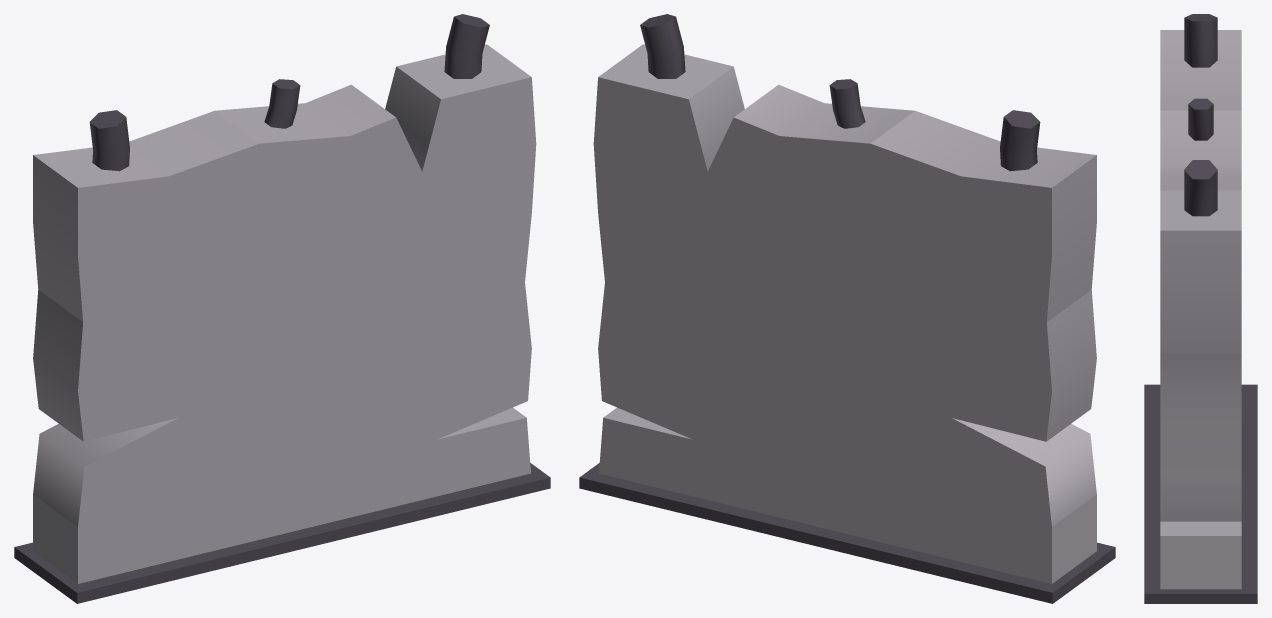
File: wall.fbx
3 renders of one model, left to right at view 1: azimuth 30°, elevation 25°; view 2: azimuth 150°, elevation 25°; view 3: azimuth 270°, elevation 25°, orthographic. The views are drawn at different scales.
Parts seen in each view (by area): view 1: Wall, Plate; view 2: Wall, Plate; view 3: Wall, Plate.
Boxes of the visible parts, box(x1,y1,x2,y2) form: Wall: box(33, 14, 536, 583); Plate: box(14, 463, 550, 603); Wall: box(593, 14, 1096, 583); Plate: box(579, 463, 1115, 603); Wall: box(1160, 14, 1241, 589); Plate: box(1144, 384, 1257, 603).
Size of the model in its own units: 365 by 83.76 by 339.
